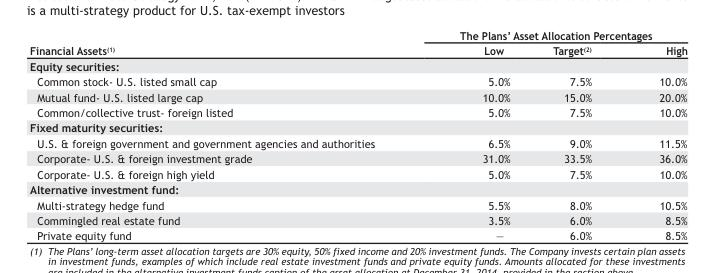table: (29, 28, 686, 241)
table column: (29, 28, 416, 241), (416, 28, 530, 241), (530, 28, 624, 241), (624, 28, 686, 241)
table column header: (29, 28, 686, 58)
table projected row header: (29, 119, 686, 135), (29, 58, 686, 73), (29, 181, 686, 196)
table row: (29, 42, 686, 58), (29, 73, 686, 89), (29, 119, 686, 135), (29, 150, 686, 166), (29, 196, 686, 212), (29, 58, 686, 73), (29, 89, 686, 104), (29, 104, 686, 119), (29, 135, 686, 150), (29, 166, 686, 181), (29, 181, 686, 196), (29, 212, 686, 227), (29, 28, 686, 42), (29, 227, 686, 241)
table spanning cell: (29, 28, 416, 58), (416, 28, 686, 42)
